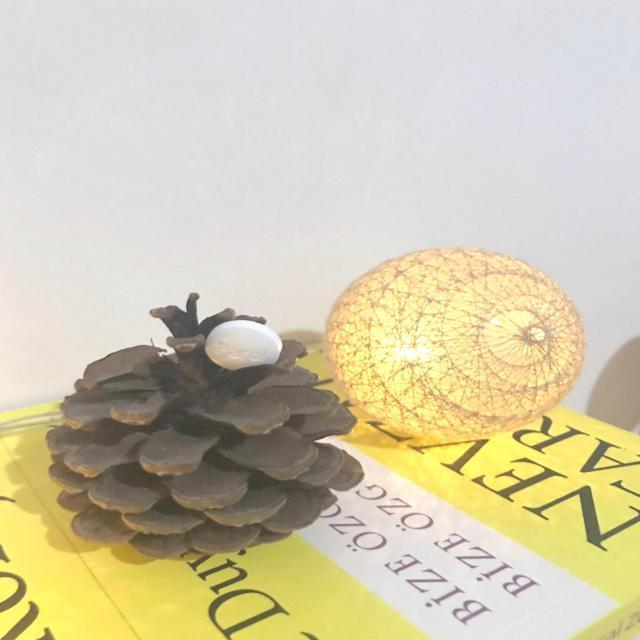pill: (202, 314, 284, 370)
